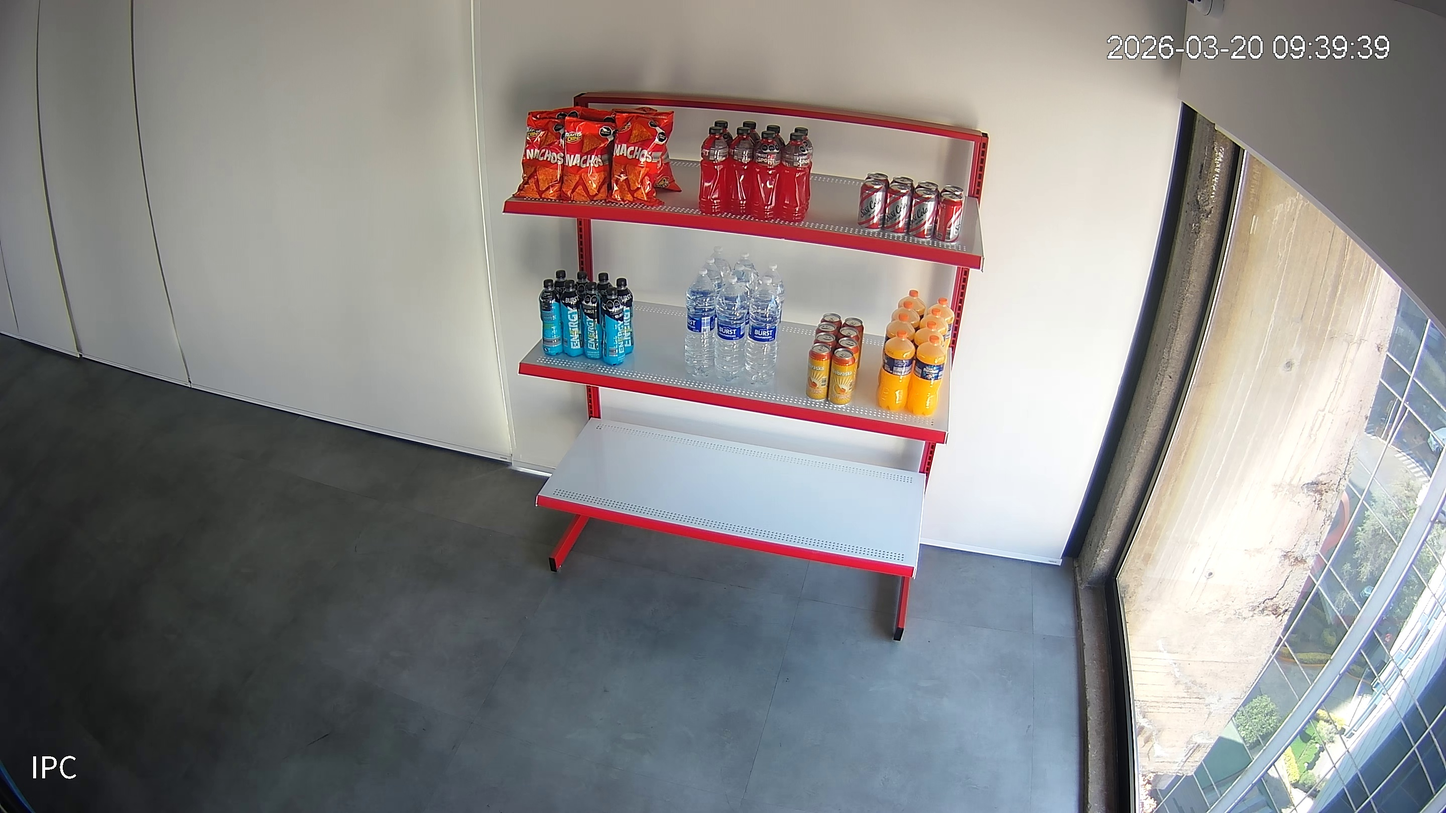agua_burst: (756, 263, 785, 323), (703, 257, 724, 298), (732, 264, 751, 304)
burst_energetica_roja: (699, 126, 729, 214), (766, 125, 785, 151), (743, 121, 761, 145)
burst_energy: (540, 278, 564, 356), (582, 281, 603, 359), (616, 278, 634, 356)
nachos_naturasol: (608, 113, 672, 207), (528, 107, 581, 119), (580, 106, 615, 122)
nebraska_mango: (806, 344, 832, 399), (836, 326, 860, 346), (820, 313, 842, 332)
sisi_cola: (914, 181, 940, 203), (941, 185, 965, 205), (890, 177, 914, 194)
sun_paradise_naranja: (877, 329, 914, 411), (920, 308, 947, 345), (898, 290, 925, 319)
